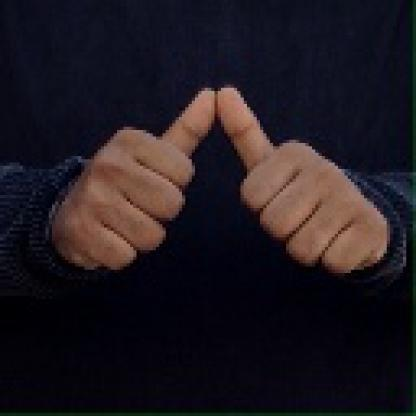A: (40, 73, 406, 276)
